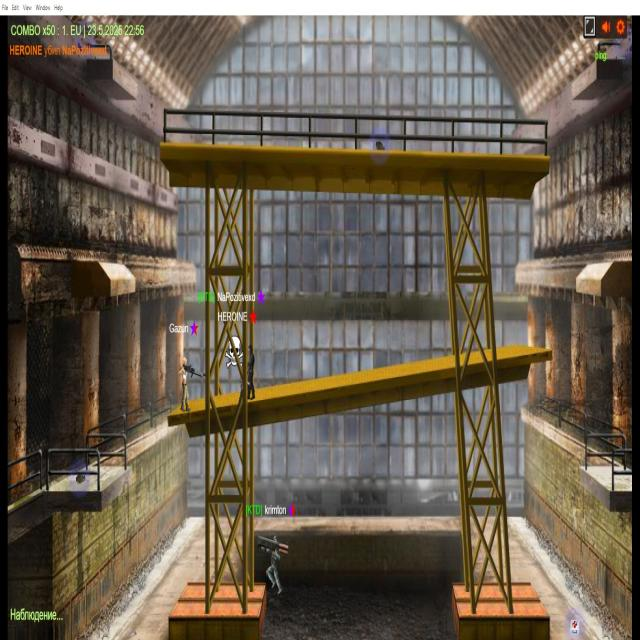enemy: (178, 350, 199, 414), (265, 533, 286, 597), (240, 341, 258, 401)
